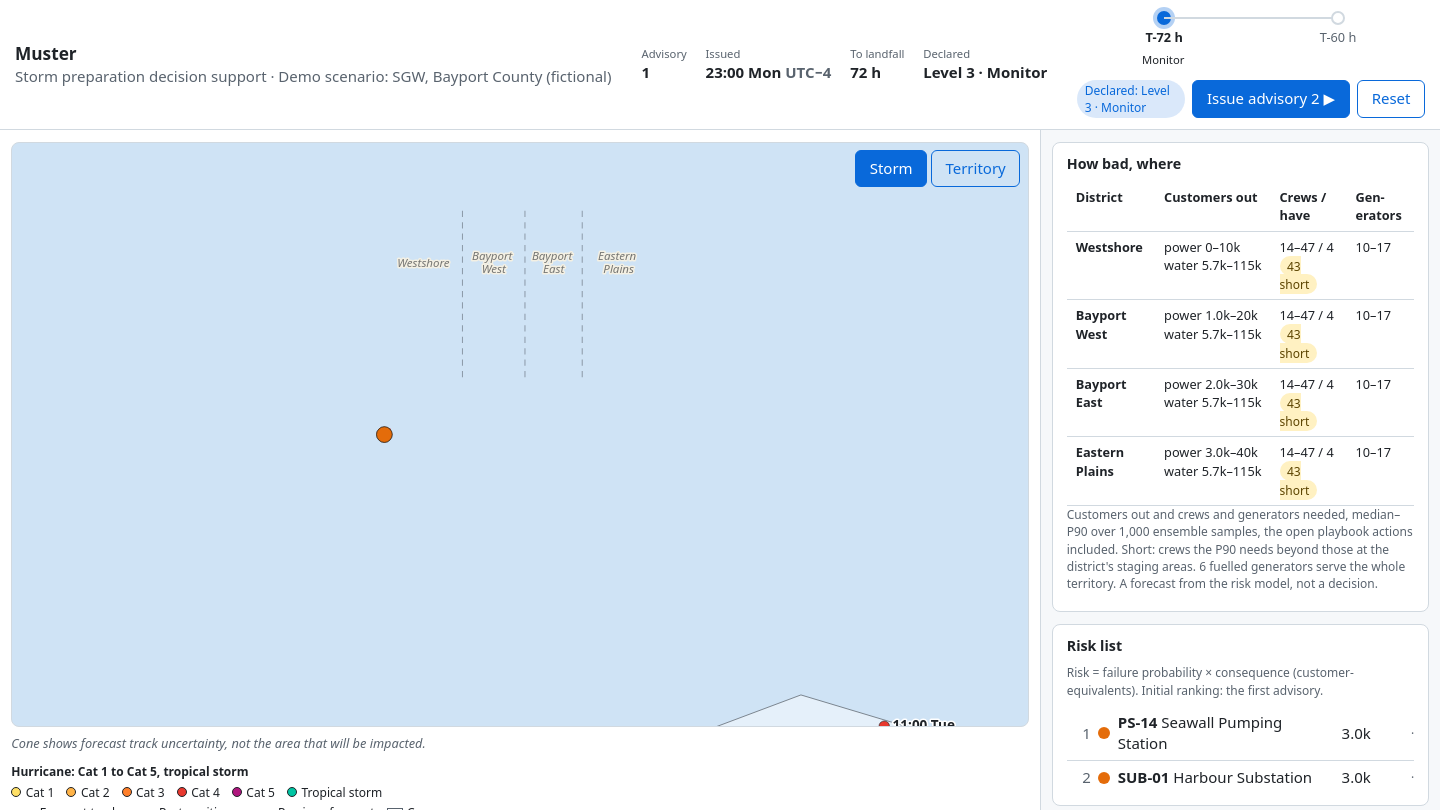
it: stepping to the next advisory updates the header and reorders the ranked list
Expected: the element named "Current advisory" shows "72 h", [642,46,1047,84]
Expected: the element named "Current advisory" shows "Level 3 · Monitor", [923,62,1047,82]
What coordinates should you click on to do the following:
click the button "Issue advisory 2 ▶"
I would click on:
 (1271, 99)
Its box is [1192,80,1350,118].
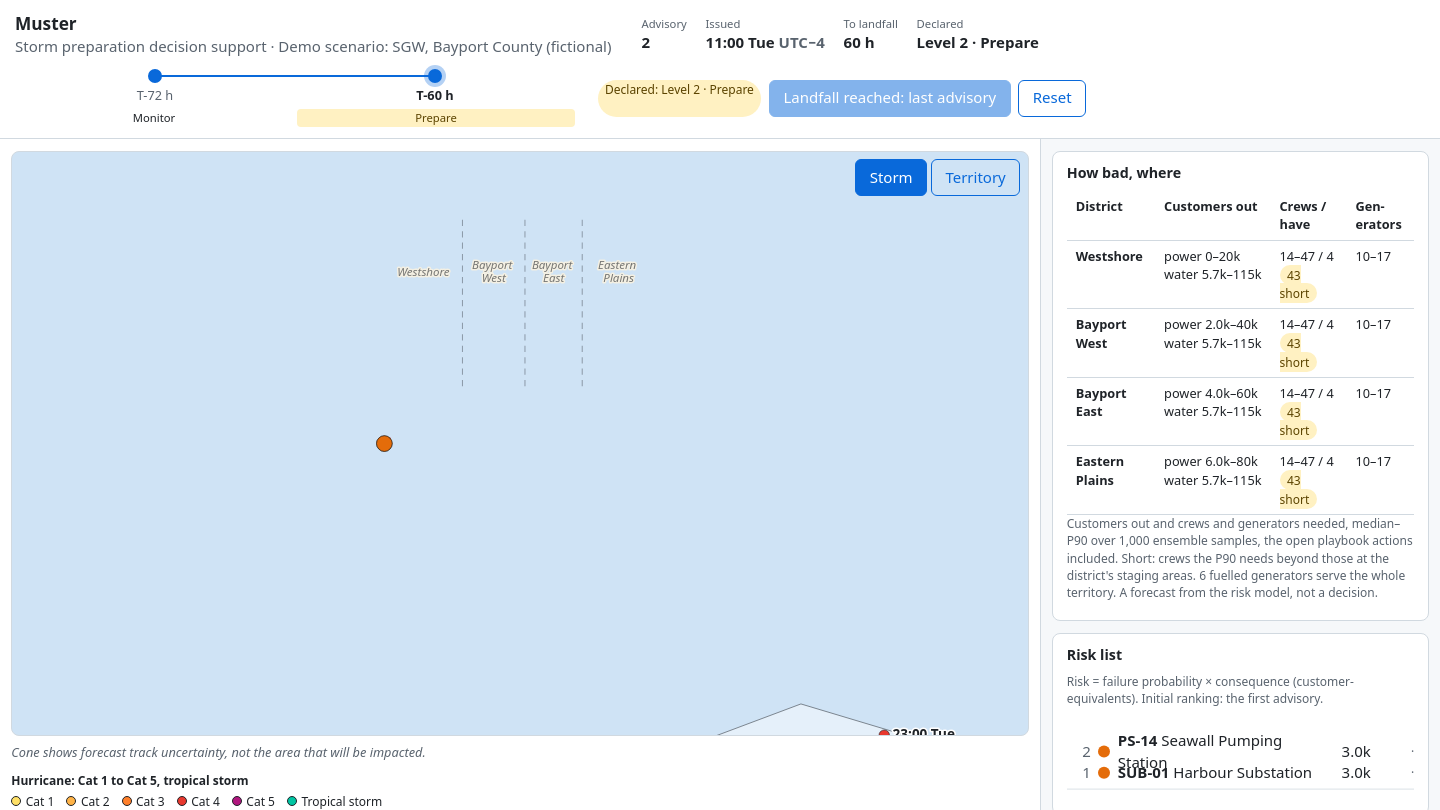
Expected: the element named "Current advisory" shows "60 h", [642,16,1039,54]
Expected: the element named "Current advisory" shows "Level 2 · Prepare", [917,32,1039,52]
Expected: the button "1 SUB-01 Harbour Substation 3.0k ·" is shown, [1067,744,1414,776]
